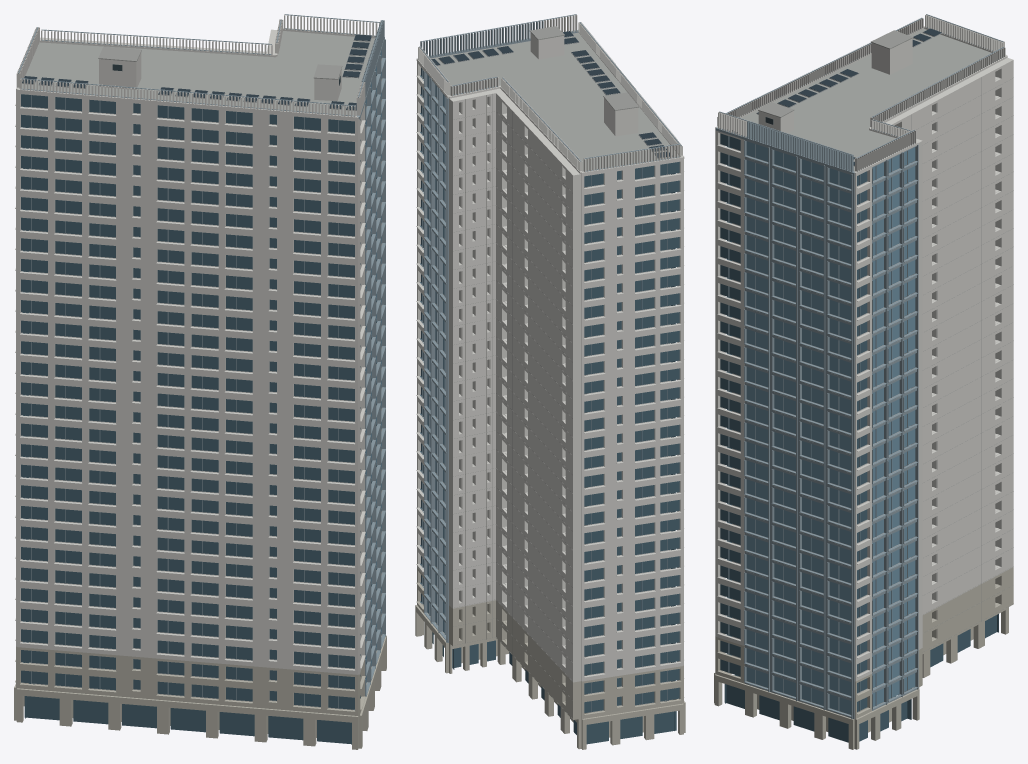
Rendered from bespoke-maple-xi-113.glb.
3 renders of one model, left to right at view 1: azimuth 30°, elevation 25°; view 2: azimuth 150°, elevation 25°; view 3: azimuth 270°, elevation 25°, orthographic. The views are drawn at different scales.
Visible parts, largest first — view 1: Maple113_e5_outer_glass, Maple113_e5_outer_piers001, Maple113_e5_outer_sill001, Maple113_e5_outer_head001, Maple113_e5_outer_silllip001, Maple113_numbered_plan_roof, Maple113_numbered_plan_inset_body, Maple113_e5_outer_reveal001, Maple113_e4_dark_projected_metal_rib, Maple113_e5_lobby_glass, Maple113_e4_dark_silllip, Maple113_e5_outer_piers (+22 smaller); view 2: Maple113_e1_core_piers001, Maple113_e0_end_glass, Maple113_e0_end_piers001, Maple113_e2_core_piers001, Maple113_numbered_plan_roof, Maple113_e0_end_sill001, Maple113_e3_dark_reveal, Maple113_e0_end_head001, Maple113_e2_end_pier001, Maple113_e0_end_silllip001, Maple113_e1_end_pier001, Maple113_e3_dark_projected_metal_rib (+48 smaller); view 3: Maple113_e1_core_piers001, Maple113_e4_dark_glass, Maple113_e3_dark_glass, Maple113_numbered_plan_roof, Maple113_e4_dark_silllip, Maple113_e4_outer_glass, Maple113_e4_dark_head, Maple113_e4_dark_reveal, Maple113_e4_dark_piers, Maple113_e3_dark_projected_metal_rib, Maple113_e4_dark_sill, Maple113_e4_dark_projected_metal_rib (+48 smaller).
Boxes of the visible parts, bbox=[...] form: Maple113_e5_outer_glass: bbox=[21, 94, 354, 709]; Maple113_e5_outer_piers001: bbox=[48, 94, 358, 674]; Maple113_e5_outer_sill001: bbox=[20, 108, 355, 674]; Maple113_e5_outer_head001: bbox=[20, 92, 355, 656]; Maple113_e5_outer_silllip001: bbox=[20, 107, 355, 670]; Maple113_numbered_plan_roof: bbox=[22, 31, 374, 116]; Maple113_numbered_plan_inset_body: bbox=[31, 106, 367, 709]; Maple113_e5_outer_reveal001: bbox=[20, 94, 355, 669]; Maple113_e4_dark_projected_metal_rib: bbox=[368, 39, 385, 684]; Maple113_e5_lobby_glass: bbox=[24, 696, 351, 744]; Maple113_e4_dark_silllip: bbox=[366, 58, 385, 696]; Maple113_e5_outer_piers: bbox=[48, 649, 358, 715]; Maple113_e1_core_piers001: bbox=[507, 103, 581, 682]; Maple113_e0_end_glass: bbox=[584, 162, 679, 712]; Maple113_e0_end_piers001: bbox=[605, 159, 683, 677]; Maple113_e2_core_piers001: bbox=[459, 89, 501, 606]; Maple113_numbered_plan_roof: bbox=[430, 32, 678, 171]; Maple113_e0_end_sill001: bbox=[584, 175, 680, 680]; Maple113_e3_dark_reveal: bbox=[424, 71, 442, 631]; Maple113_e0_end_head001: bbox=[584, 160, 680, 664]; Maple113_e2_end_pier001: bbox=[449, 97, 458, 608]; Maple113_e0_end_silllip001: bbox=[584, 173, 681, 677]; Maple113_e1_end_pier001: bbox=[493, 88, 508, 605]; Maple113_e3_dark_projected_metal_rib: bbox=[430, 78, 447, 642]; Maple113_e1_core_piers001: bbox=[896, 57, 1013, 614]; Maple113_e4_dark_glass: bbox=[746, 141, 851, 714]; Maple113_e3_dark_glass: bbox=[872, 147, 915, 706]; Maple113_numbered_plan_roof: bbox=[740, 29, 991, 171]; Maple113_e4_dark_silllip: bbox=[744, 155, 851, 717]; Maple113_e4_outer_glass: bbox=[720, 133, 740, 676]; Maple113_e4_dark_head: bbox=[745, 140, 851, 700]; Maple113_e4_dark_reveal: bbox=[744, 140, 829, 708]; Maple113_e4_dark_piers: bbox=[770, 148, 854, 718]; Maple113_e3_dark_projected_metal_rib: bbox=[884, 144, 918, 704]; Maple113_e4_dark_sill: bbox=[745, 157, 851, 717]; Maple113_e4_dark_projected_metal_rib: bbox=[768, 147, 852, 718].
Bounding box in the file's own units: 50.6 × 95.77 × 43.28.
